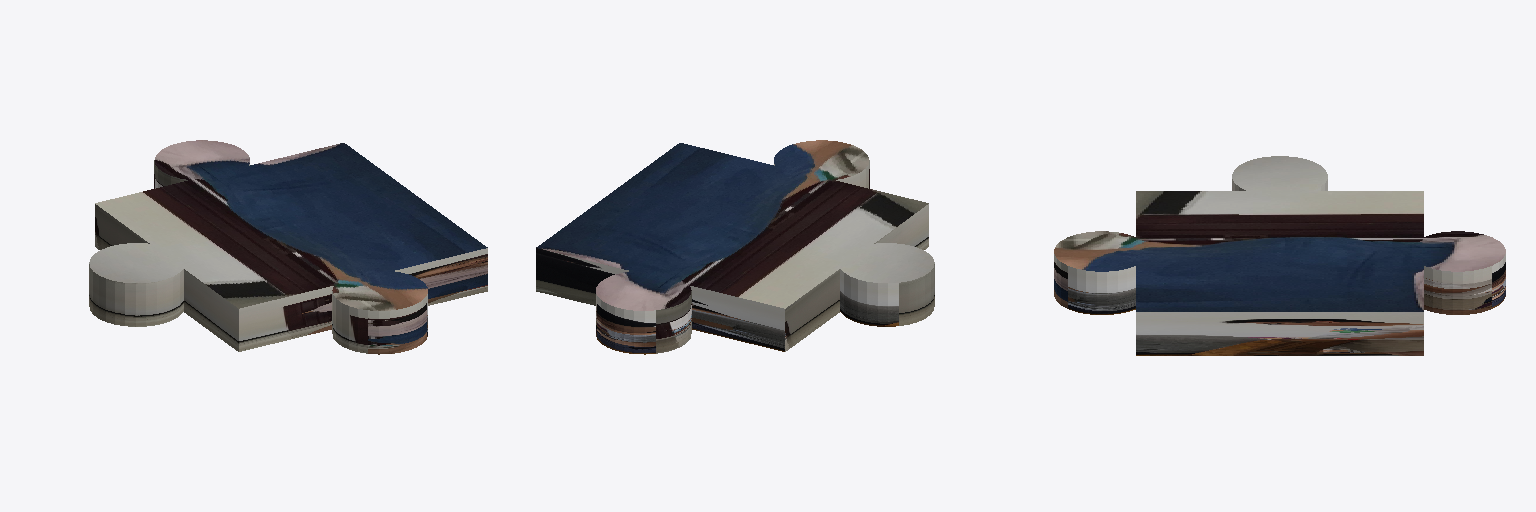
3 renders of one model, left to right at view 1: azimuth 30°, elevation 25°; view 2: azimuth 150°, elevation 25°; view 3: azimuth 270°, elevation 25°, orthographic.
Parts seen in each view (by area): view 1: ͼ��024; view 2: ͼ��024; view 3: ͼ��024.
Part boxes in pixels (left/top/right/bottom): ͼ��024: left=89, top=140, right=487, bottom=354; ͼ��024: left=536, top=140, right=934, bottom=354; ͼ��024: left=1054, top=156, right=1505, bottom=355.
Bounding box in the file's own units: 38.5 × 5 × 47.01.
Materials: 1 (1 with a texture image).